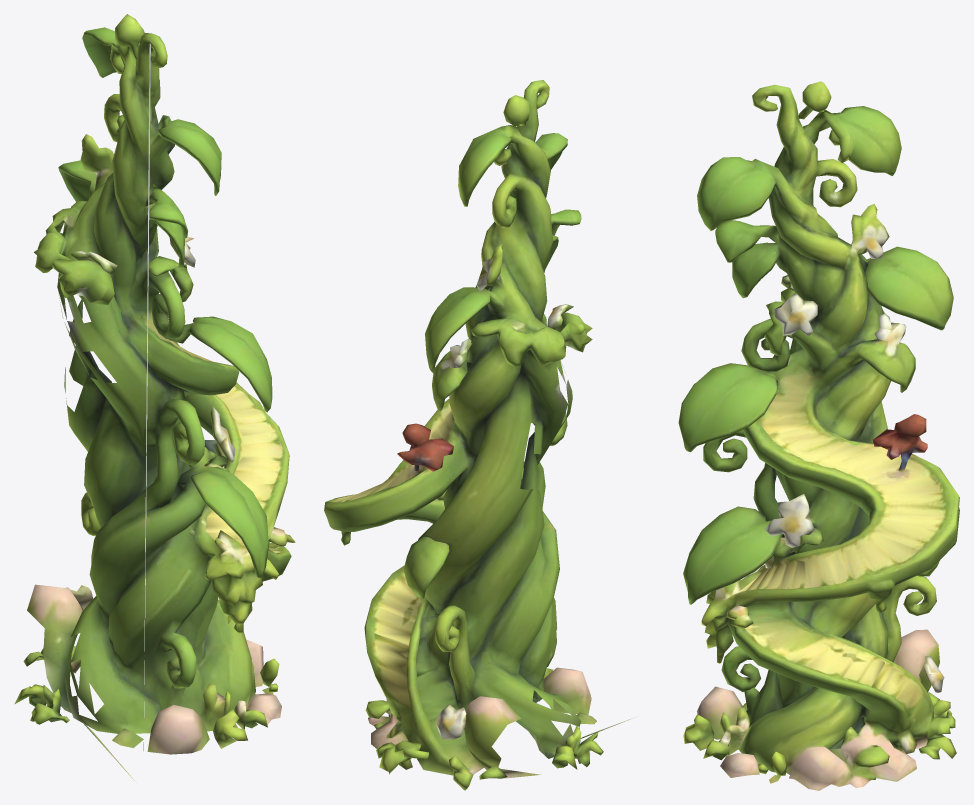
Rendered from fasola_5.glb.
The picture shows the model from 3 angles, left to right: view 1: azimuth 30°, elevation 25°; view 2: azimuth 150°, elevation 25°; view 3: azimuth 270°, elevation 25°; orthographic projection. The views are drawn at different scales.
Visible parts, largest first — view 1: fasola_5; view 2: fasola_5; view 3: fasola_5.
Boxes of the visible parts, <box> form: fasola_5: <box>14,14,295,786</box>; fasola_5: <box>324,80,635,790</box>; fasola_5: <box>678,81,959,790</box>.
Bounding box in the file's own units: 0.3581 × 0.9902 × 0.3699.
1 material, 1 textured.
